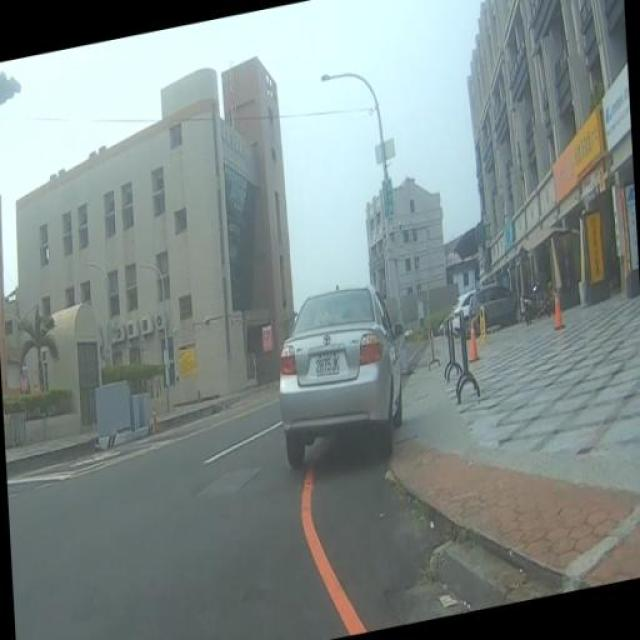illegalparking: (268, 278, 421, 498)
